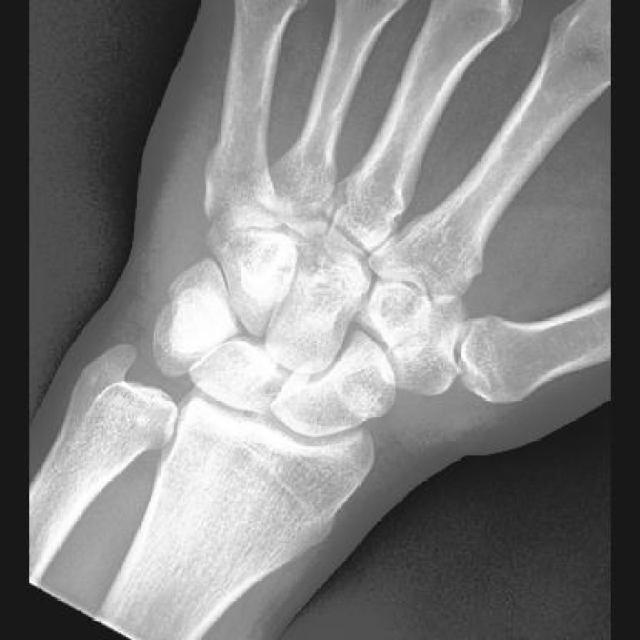Fracture: (359, 259, 430, 333)
